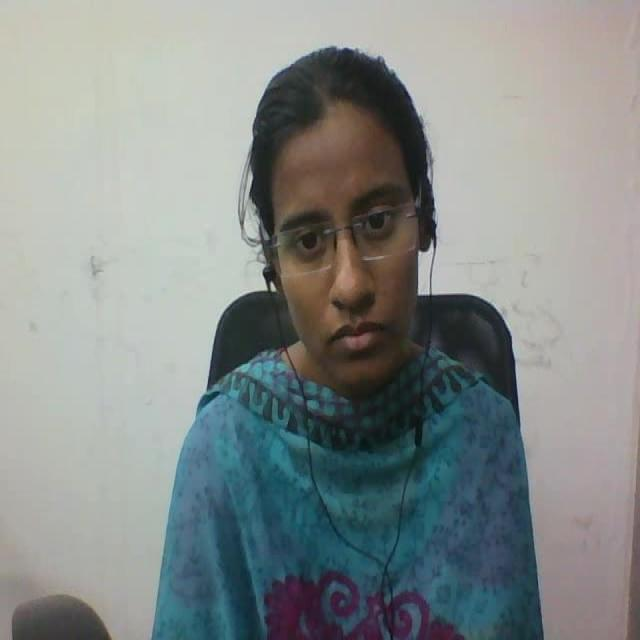Engaged: (229, 42, 495, 423)
